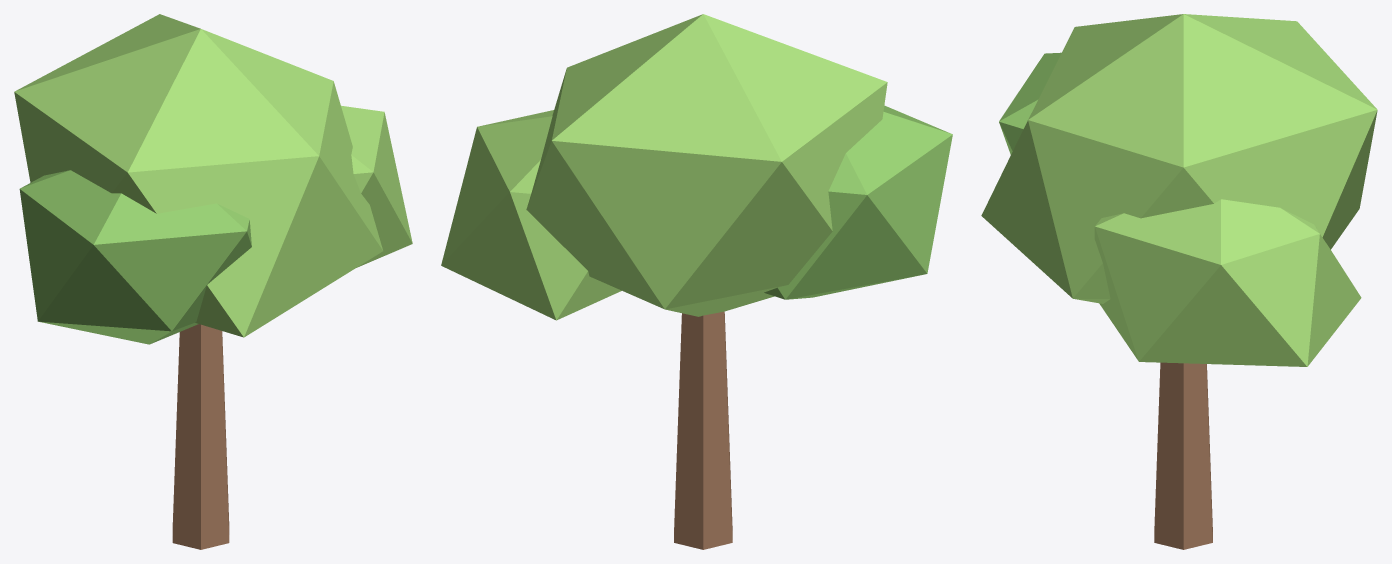
The model's file is tree-round-0.glb.
3 views of the same model, side by side, from view 1: azimuth 30°, elevation 25°; view 2: azimuth 150°, elevation 25°; view 3: azimuth 270°, elevation 25° (orthographic). The views are drawn at different scales.
Visible parts, largest first — view 1: tree-round-0-leaf2, tree-round-0-leaf1, tree-round-0-bark; view 2: tree-round-0-leaf2, tree-round-0-leaf1, tree-round-0-bark; view 3: tree-round-0-leaf2, tree-round-0-bark, tree-round-0-leaf1.
Boxes of the visible parts, left/top/right/bottom form: tree-round-0-leaf2: left=14, top=14, right=412, bottom=337; tree-round-0-leaf1: left=19, top=170, right=251, bottom=344; tree-round-0-bark: left=172, top=324, right=229, bottom=549; tree-round-0-leaf2: left=441, top=14, right=887, bottom=320; tree-round-0-leaf1: left=764, top=105, right=952, bottom=299; tree-round-0-bark: left=674, top=311, right=732, bottom=549; tree-round-0-leaf2: left=981, top=14, right=1377, bottom=366; tree-round-0-bark: left=1154, top=362, right=1212, bottom=549; tree-round-0-leaf1: left=999, top=52, right=1061, bottom=154.
Bounding box in the file's own units: 2.48 × 3.07 × 2.11.
